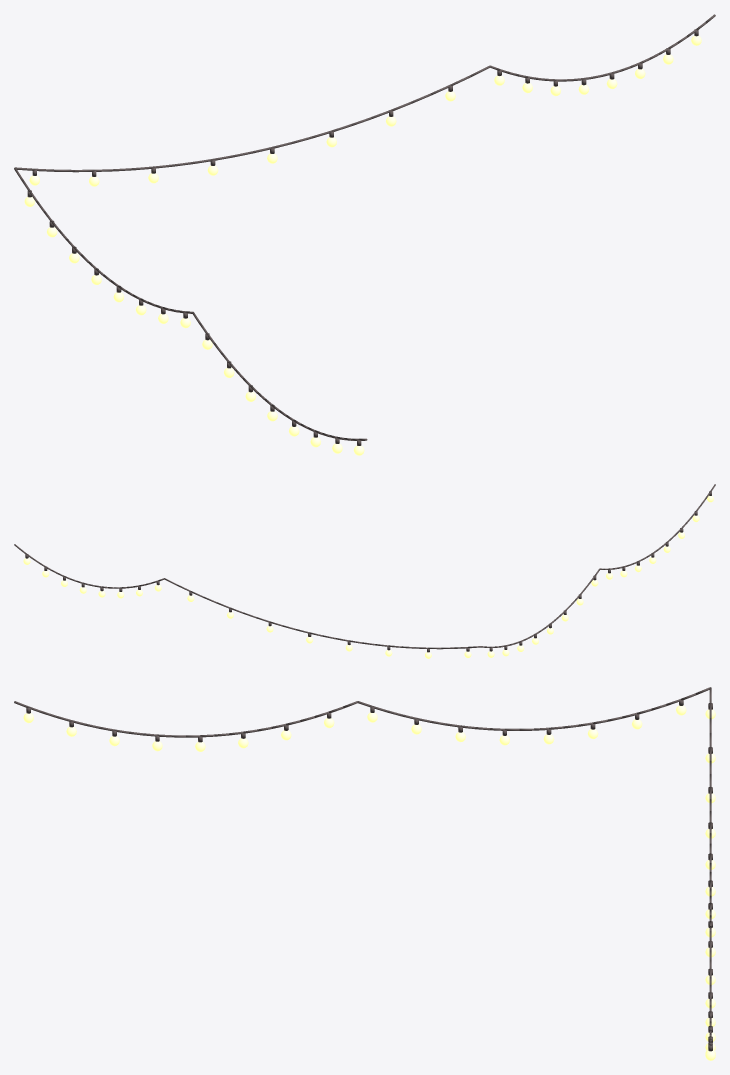
The model's file is fairy_lights.glb.
3 views of the same model, one above another, from view 1: azimuth 30°, elevation 25°; view 2: azimuth 150°, elevation 25°; view 3: azimuth 270°, elevation 25° (orthographic). The views are drawn at different scales.
Visible parts, largest first — view 1: fairy_lights; view 2: fairy_lights; view 3: fairy_lights.
Part boxes in pixels (x1,y1,x2,y2): fairy_lights: [14, 14, 715, 455]; fairy_lights: [14, 484, 715, 658]; fairy_lights: [14, 687, 715, 1060].
Size of the model in its own units: 4.23 by 0.3832 by 3.68.
